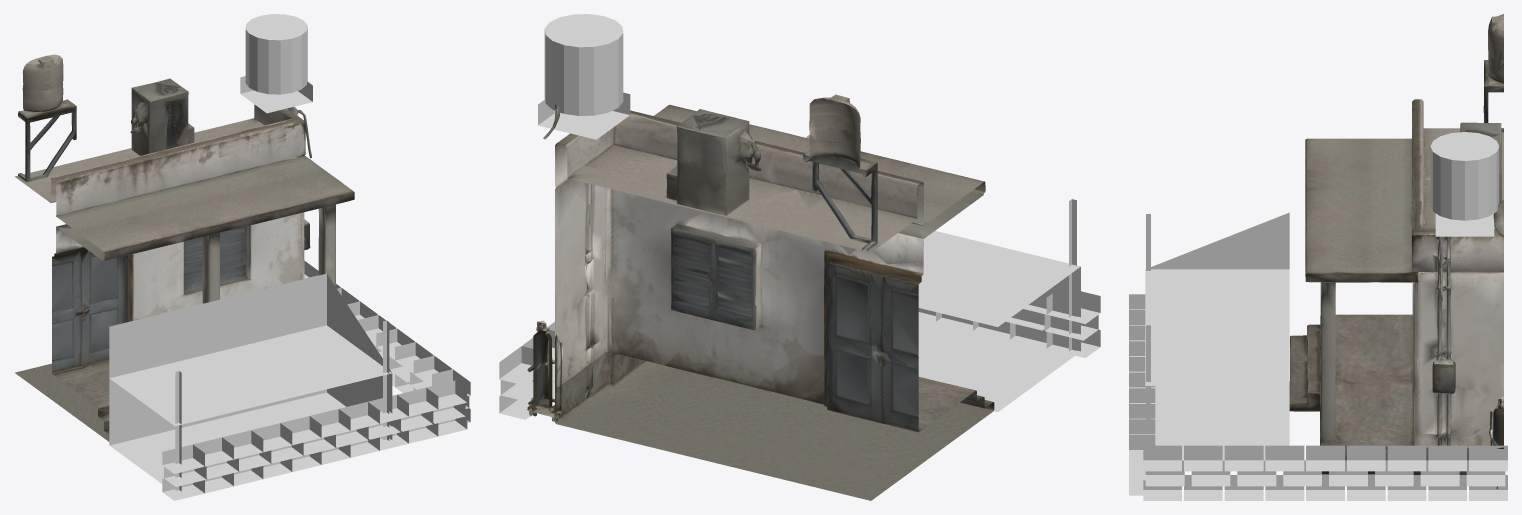
Rendered from militia_field_clinic.glb.
3 renders of one model, left to right at view 1: azimuth 30°, elevation 25°; view 2: azimuth 150°, elevation 25°; view 3: azimuth 270°, elevation 25°, orthographic. The views are drawn at different scales.
Parts seen in each view (by area): view 1: wall, dome, wood, trim, rust, roof, metal, glass; view 2: wall, dome, rust, roof, trim, glass, wood, metal; view 3: dome, trim, wall, wood, rust, roof, metal, glass.
Part boxes in pixels (bbox=[...]): wall: bbox=[15, 56, 354, 441]; dome: bbox=[109, 273, 392, 490]; wood: bbox=[162, 260, 470, 500]; trim: bbox=[52, 106, 353, 434]; rust: bbox=[175, 14, 389, 492]; roof: bbox=[15, 118, 264, 312]; metal: bbox=[18, 54, 188, 145]; glass: bbox=[52, 245, 132, 430]; wall: bbox=[529, 98, 994, 500]; dome: bbox=[870, 231, 1080, 412]; rust: bbox=[538, 14, 1076, 352]; roof: bbox=[567, 144, 916, 349]; trim: bbox=[528, 104, 993, 431]; glass: bbox=[527, 242, 984, 419]; wood: bbox=[499, 291, 1100, 419]; metal: bbox=[555, 94, 877, 198]; dome: bbox=[1145, 212, 1289, 459]; trim: bbox=[1289, 99, 1503, 446]; wall: bbox=[1289, 17, 1503, 489]; wood: bbox=[1129, 294, 1507, 500]; rust: bbox=[1146, 132, 1499, 419]; roof: bbox=[1423, 128, 1503, 228]; metal: bbox=[1460, 14, 1503, 201]; glass: bbox=[1320, 235, 1503, 448].
Size of the model in its own units: 6.12 by 5.99 by 6.04.
1 material, 1 textured.
